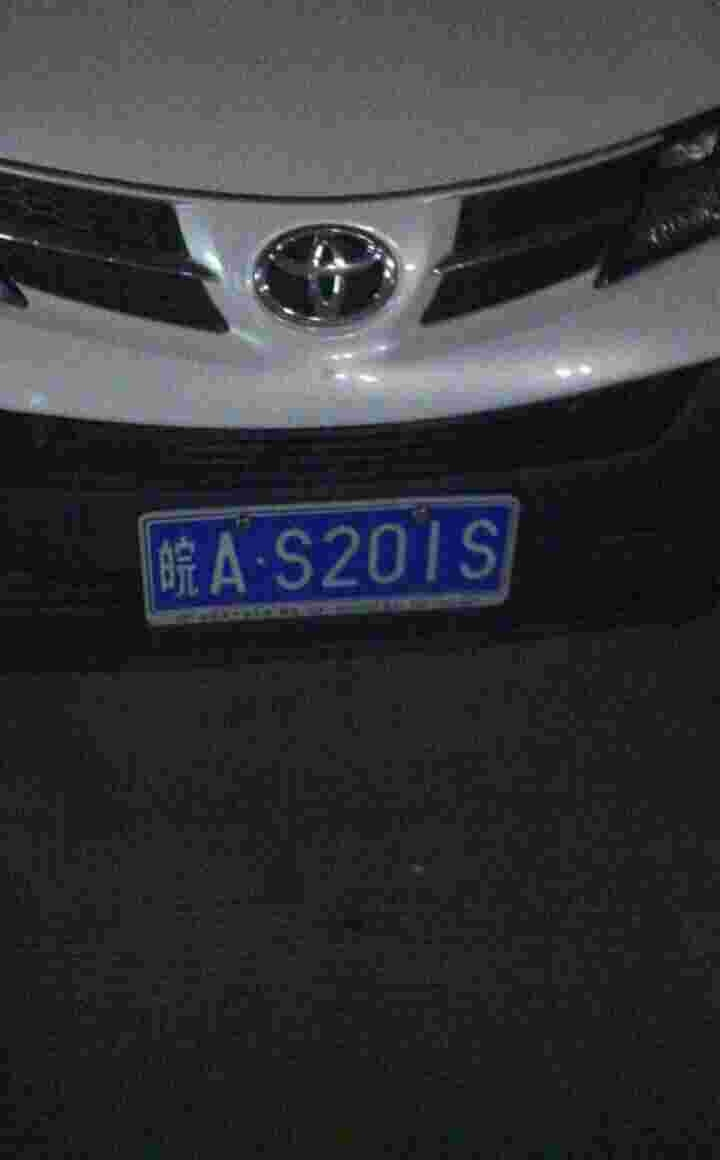license_plate: (129, 493, 504, 626)
